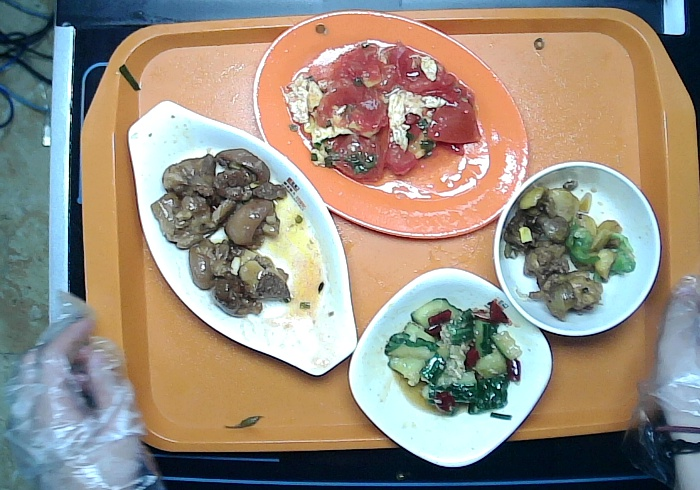NLDX-Bai_Se_Xiao_Fang_Die: (348, 267, 553, 468)
NLDX-Fan_Wan: (493, 161, 661, 337)
NLDX-Ju_Se_Pan: (253, 12, 527, 239)
NLDX-Yu_Pan: (128, 101, 358, 376)
